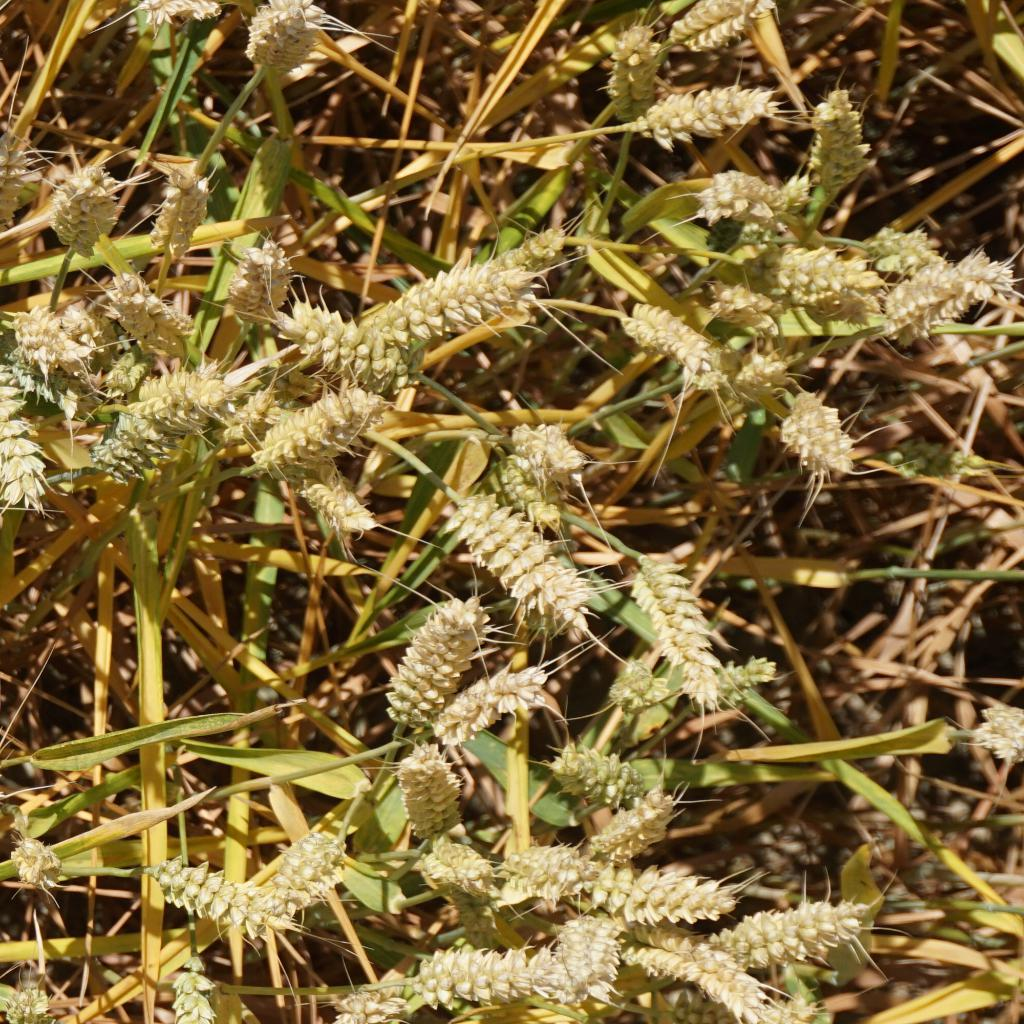0-0: (440, 479, 585, 623), (622, 74, 798, 155), (379, 597, 479, 738), (632, 554, 723, 698), (149, 857, 283, 951), (440, 214, 574, 303), (278, 300, 406, 392), (625, 908, 748, 1002), (382, 244, 515, 325), (246, 379, 374, 462), (38, 155, 131, 266), (795, 86, 881, 206), (413, 923, 543, 995), (878, 424, 1005, 496), (722, 888, 876, 947), (886, 246, 992, 331), (439, 668, 559, 739), (393, 735, 472, 835), (140, 167, 219, 263), (671, 0, 793, 62), (601, 14, 683, 106), (577, 790, 682, 861), (551, 912, 628, 1007), (0, 345, 49, 493), (600, 863, 716, 925), (239, 0, 331, 78), (271, 826, 361, 905), (105, 280, 196, 355), (768, 389, 850, 472), (128, 359, 223, 426), (620, 301, 715, 368), (482, 442, 559, 524), (752, 237, 861, 292), (499, 841, 587, 908), (694, 163, 790, 221), (659, 989, 812, 1024), (503, 406, 583, 472), (556, 751, 645, 810), (562, 120, 616, 216), (214, 234, 277, 314), (419, 832, 499, 894), (300, 469, 376, 533), (12, 294, 83, 361), (93, 412, 159, 479), (339, 961, 408, 1024), (699, 641, 782, 691), (967, 692, 1024, 764), (0, 136, 35, 241), (5, 837, 64, 897), (166, 955, 216, 1024), (607, 661, 664, 719), (722, 345, 784, 396), (207, 380, 263, 435), (860, 226, 928, 267), (5, 971, 54, 1024), (708, 274, 759, 323), (138, 0, 224, 28)
